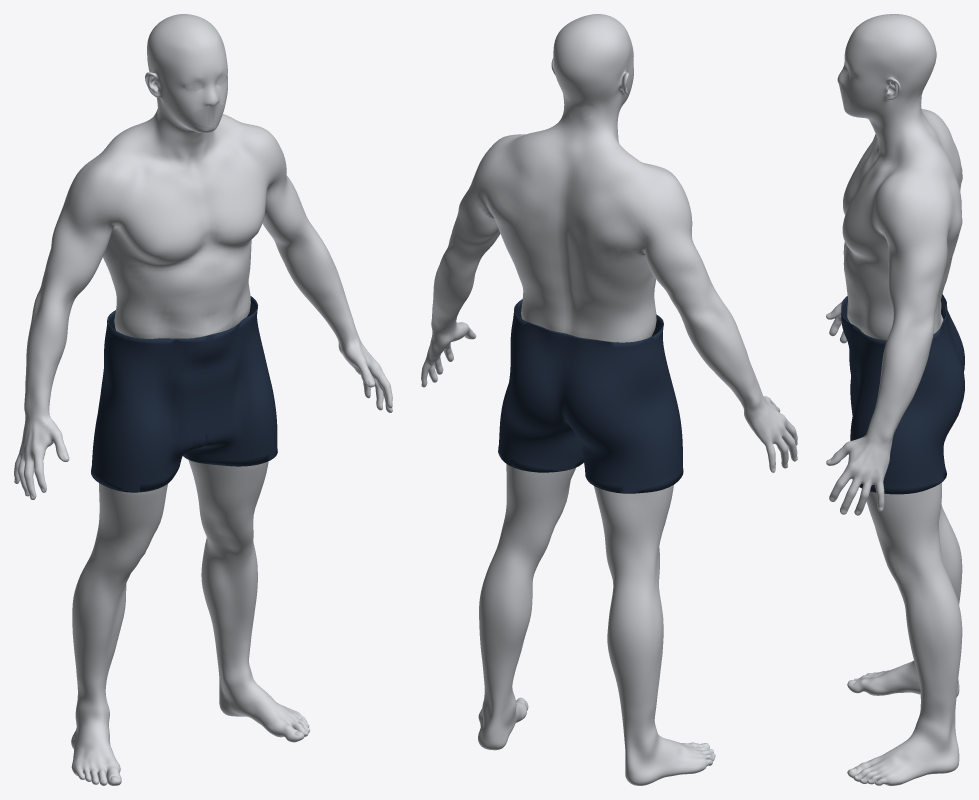
Rendered from fitness-reference.glb.
3 views of the same model, side by side, from view 1: azimuth 30°, elevation 25°; view 2: azimuth 150°, elevation 25°; view 3: azimuth 270°, elevation 25° (orthographic).
Visible parts, largest first — view 1: Fitness_Body_Surface, Fitness_Sports_Shorts; view 2: Fitness_Body_Surface, Fitness_Sports_Shorts; view 3: Fitness_Body_Surface, Fitness_Sports_Shorts.
Boxes of the visible parts, <box> form: Fitness_Body_Surface: <box>14,14,392,785</box>; Fitness_Sports_Shorts: <box>91,296,277,492</box>; Fitness_Body_Surface: <box>421,14,797,785</box>; Fitness_Sports_Shorts: <box>498,299,683,493</box>; Fitness_Body_Surface: <box>826,14,962,785</box>; Fitness_Sports_Shorts: <box>841,294,964,494</box>.
Bounding box in the file's own units: 0.8827 × 1.69 × 0.2963.
